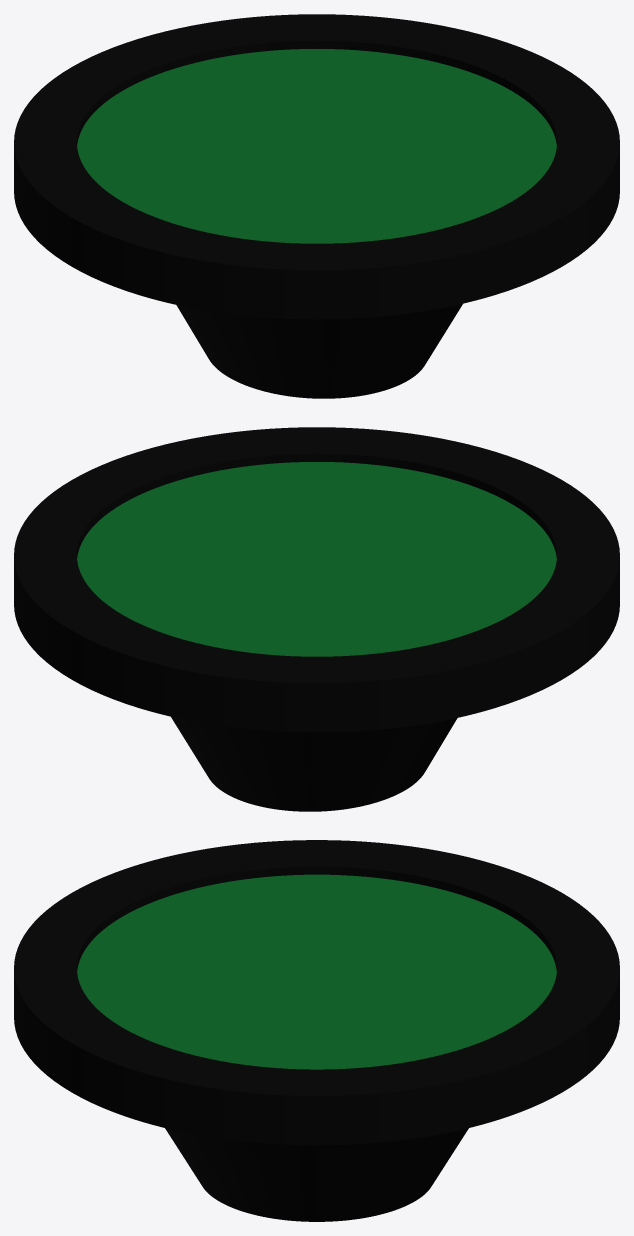
The model's file is Pokertafel.gltf.
3 views of the same model, one above another, from view 1: azimuth 30°, elevation 25°; view 2: azimuth 150°, elevation 25°; view 3: azimuth 270°, elevation 25° (orthographic).
Parts seen in each view (by area): view 1: Cylinder, Cylinder.001; view 2: Cylinder, Cylinder.001; view 3: Cylinder, Cylinder.001.
Boxes of the visible parts, bbox=[...] form: Cylinder: bbox=[14, 14, 619, 319]; Cylinder.001: bbox=[176, 303, 462, 398]; Cylinder: bbox=[14, 427, 619, 732]; Cylinder.001: bbox=[171, 716, 457, 811]; Cylinder: bbox=[14, 840, 619, 1145]; Cylinder.001: bbox=[165, 1128, 468, 1221].
Size of the model in its own units: 16.8 by 6.35 by 16.8.
